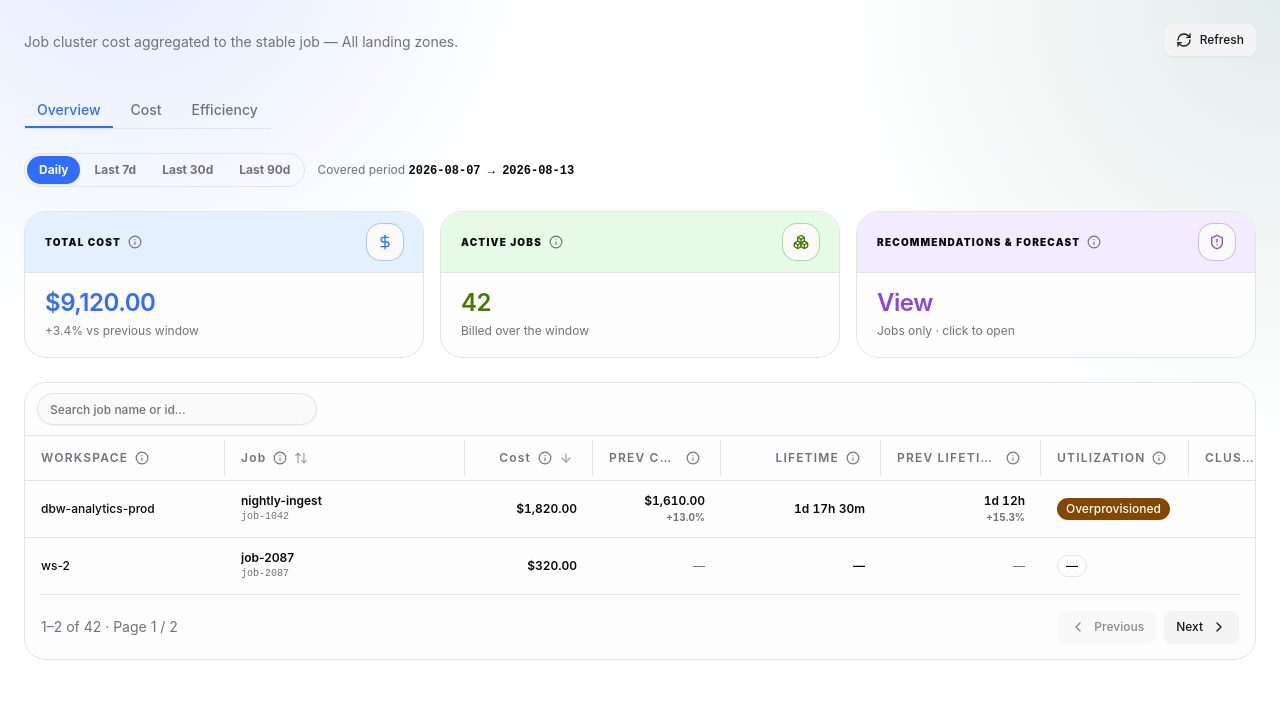
Test: ComputeJobs › shows both trends and the technical specs in the drawer, and no governance block
The width and height of the screenshot is (1280, 720).
Click the tab "Cost".
click(146, 110)  # box [118,92,174,128]
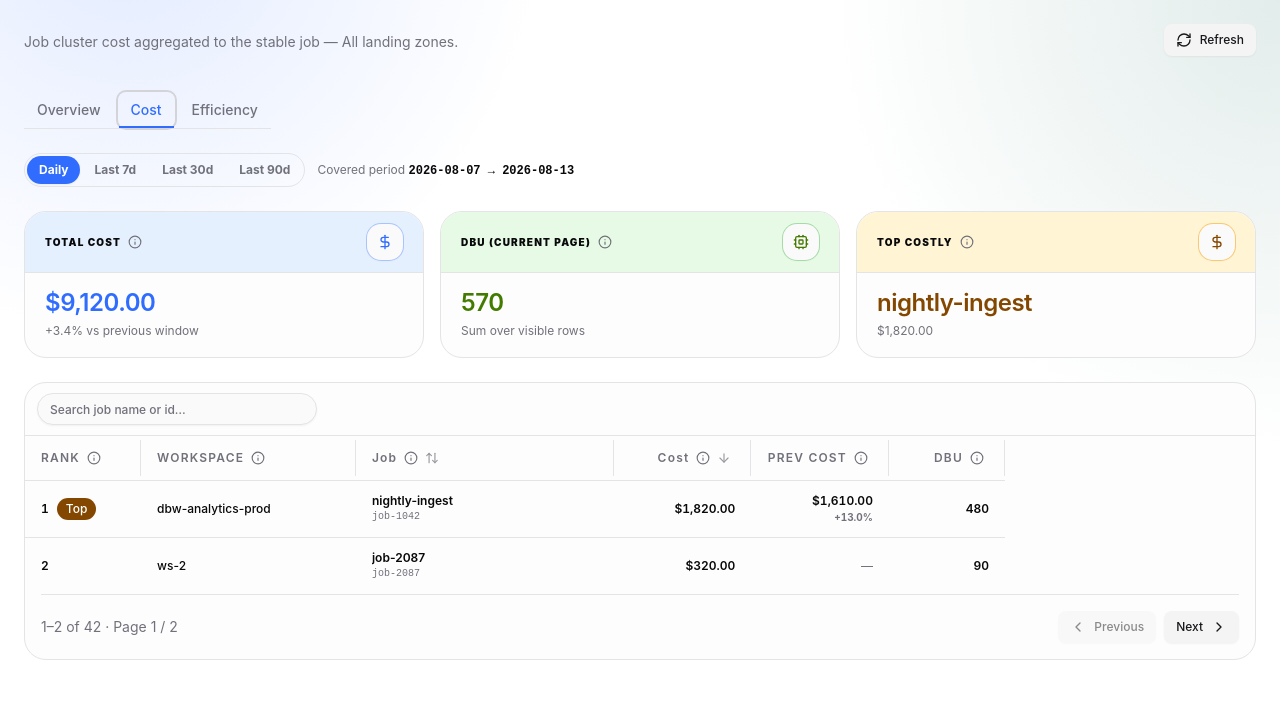
Click the text "nightly-ingest" next to "dbw-analytics-prod".
click(412, 500)  # box [372,492,453,508]
(page scrolled)
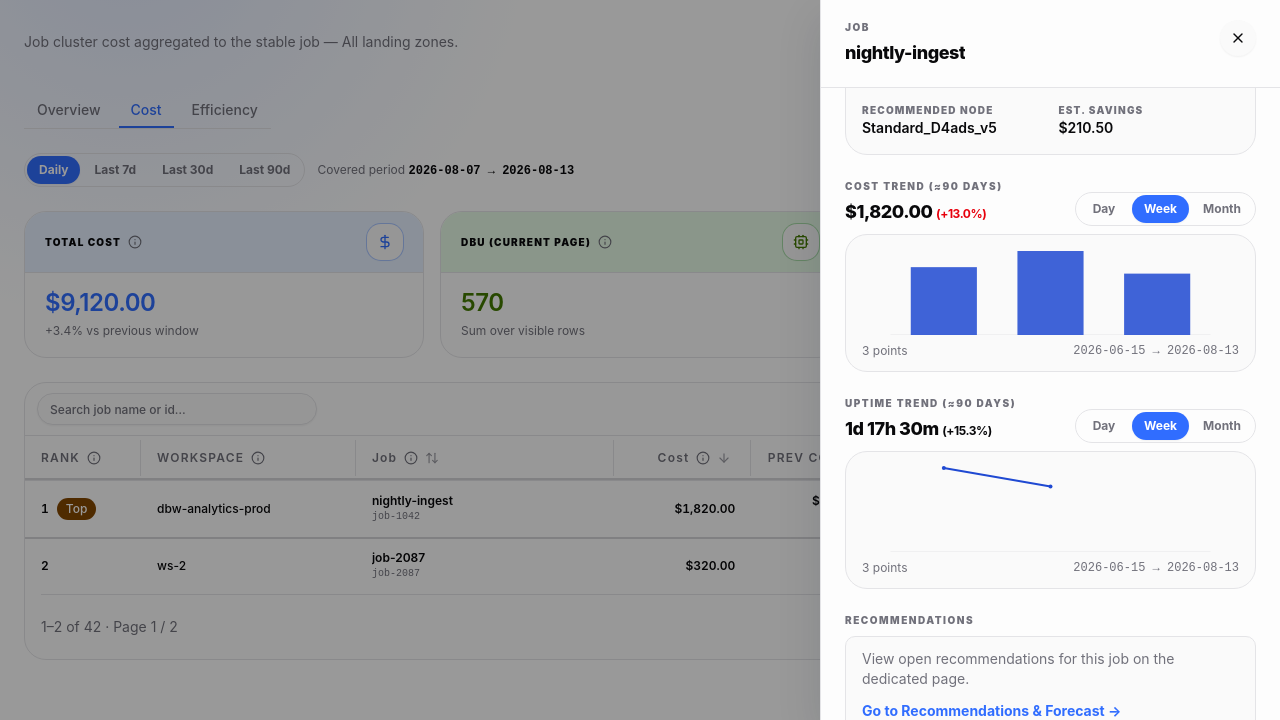
Check: the dialog named "Job details" is shown, box [820,0,1279,719]
Check: the text "Cost trend (≈90 days)" is shown, box [845,179,1002,194]
Check: the text "Uptime trend (≈90 days)" is shown, box [845,396,1016,411]
